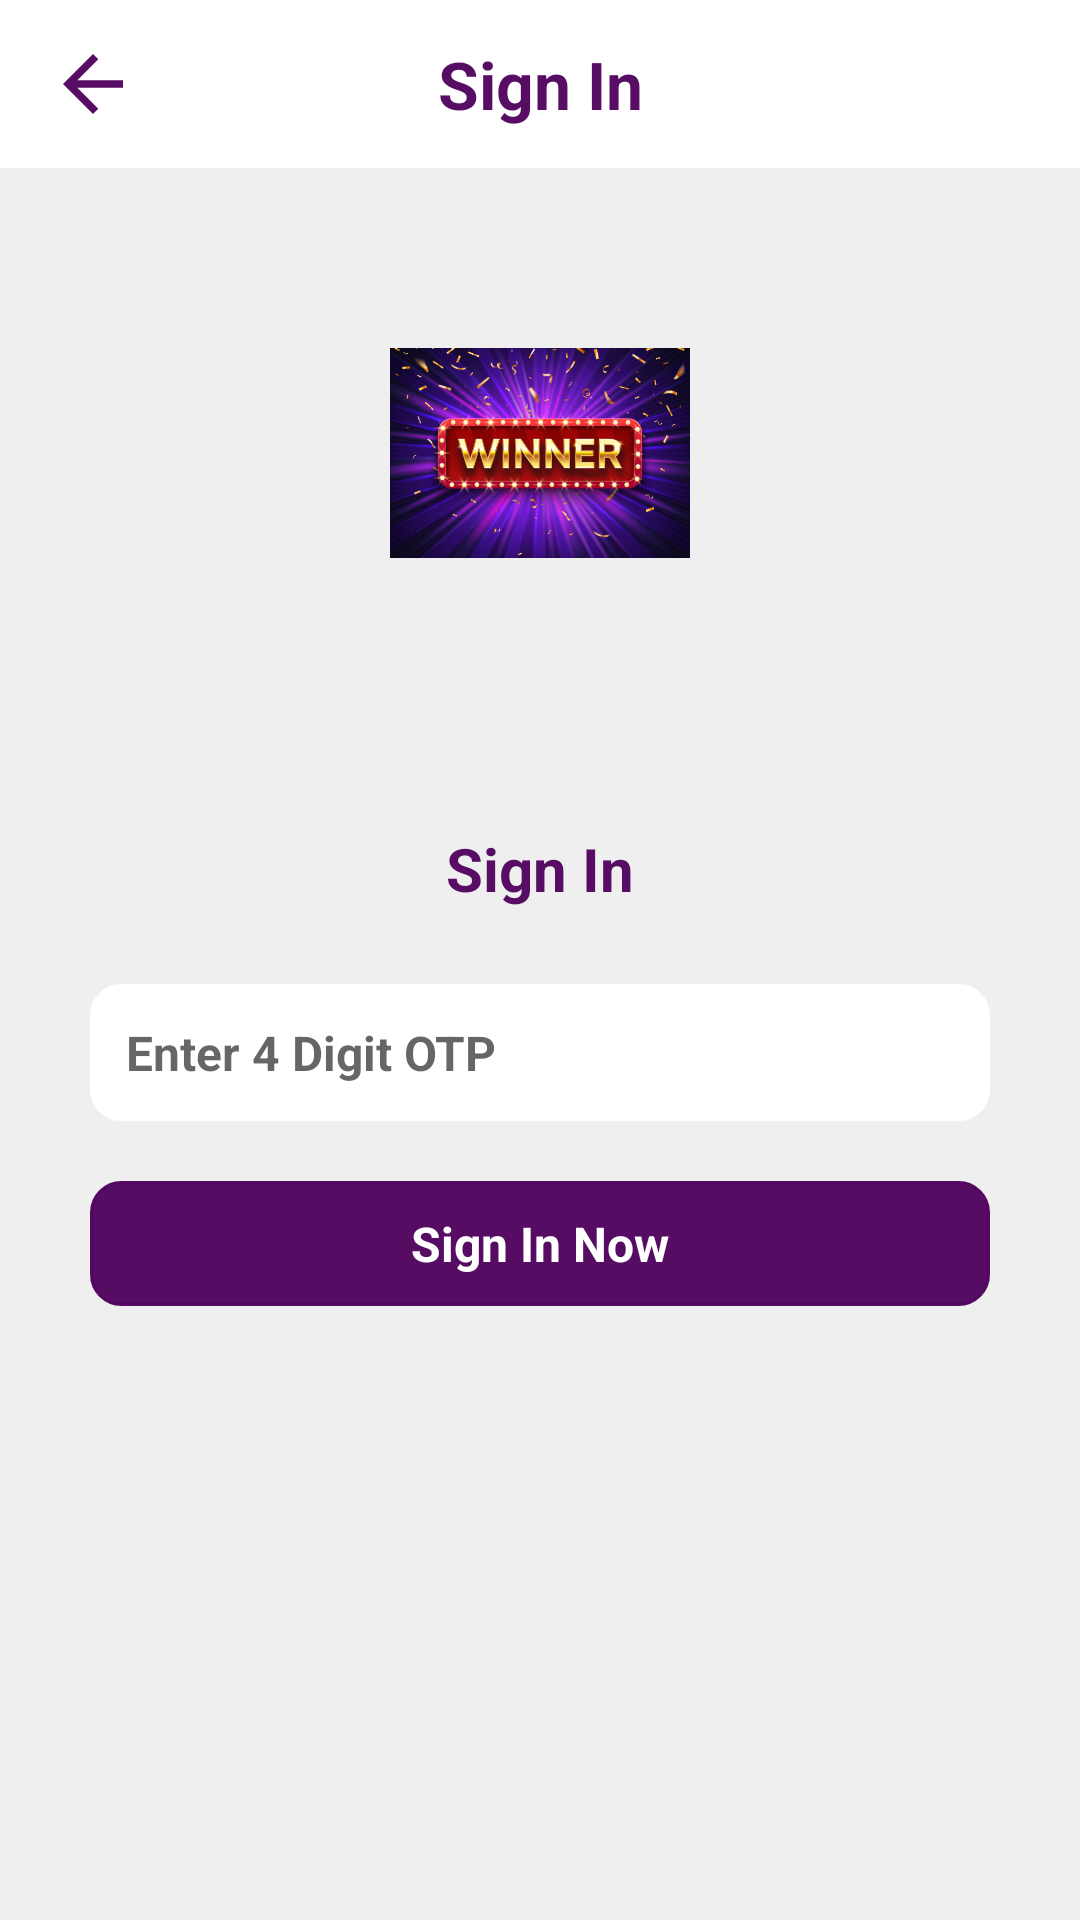

Icon bounding boxes for this 1080px x 1920px phone screenshot, format box(x1, y1, x2, y2):
back: box(63, 54, 123, 114)
